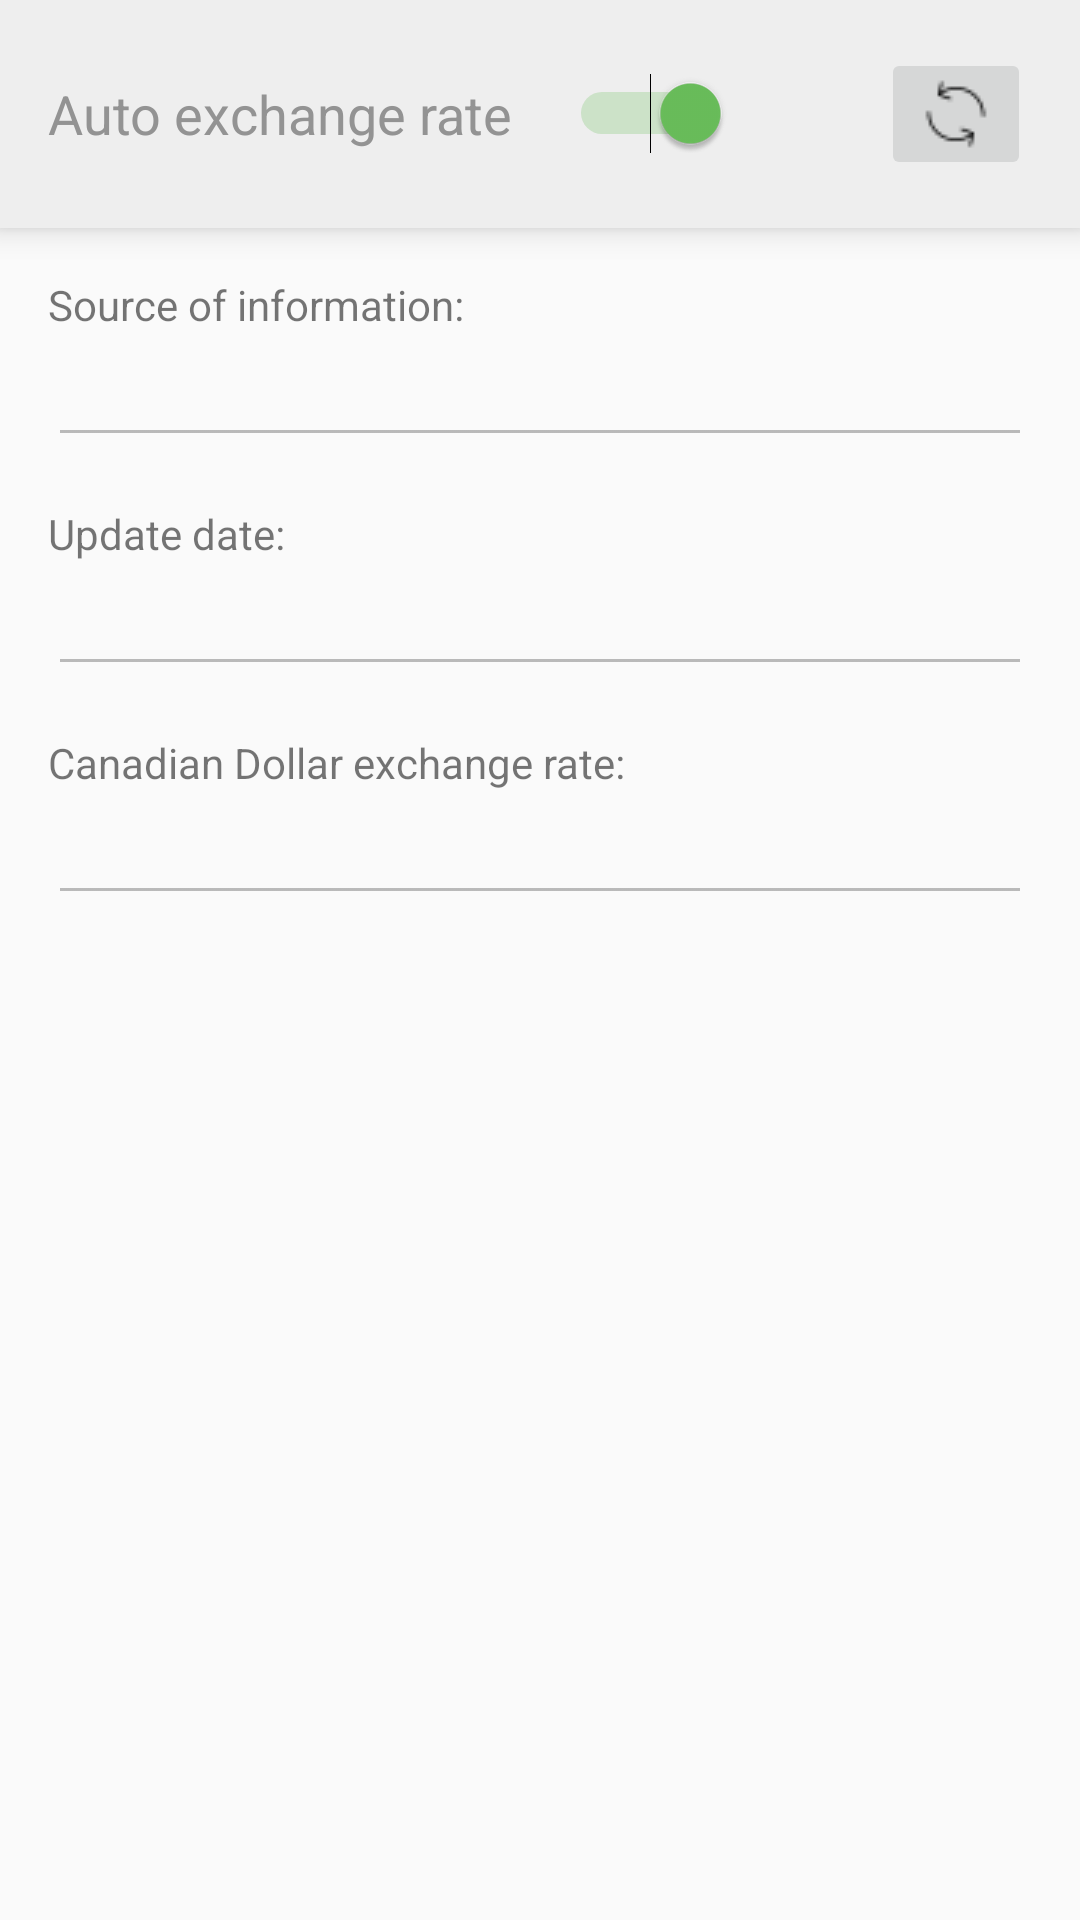

Screen size 1080×1920. Icon name, then its box in pixels as detection(x1, y1, x2, y2):
refresh: detection(893, 66, 1019, 162)
